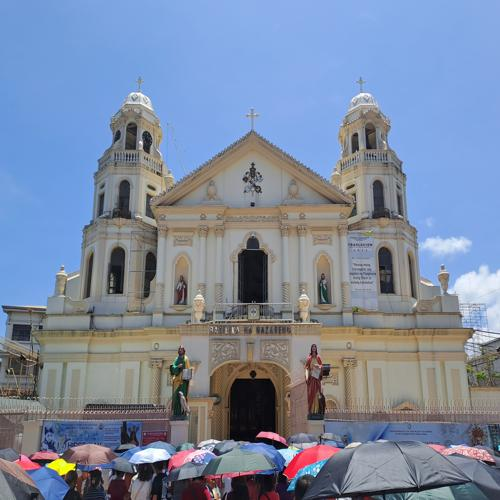Quiapo Church: (42, 68, 466, 442)
